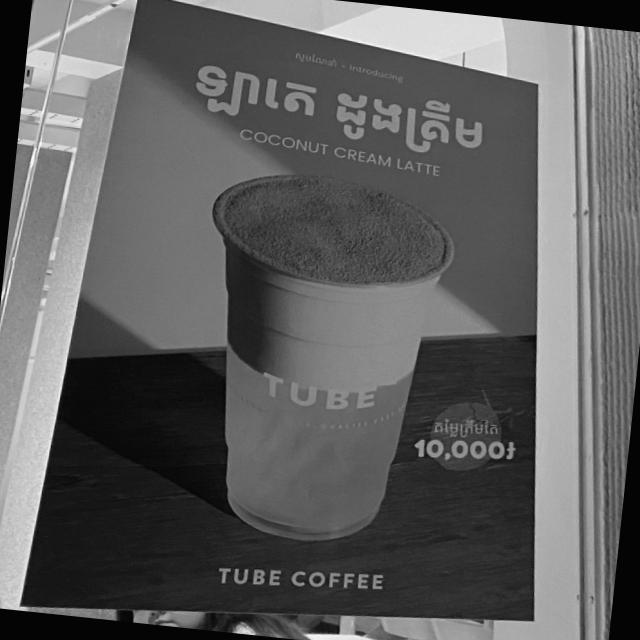1: (187, 52, 493, 169)
Yolov11kh: (425, 414, 504, 439)
